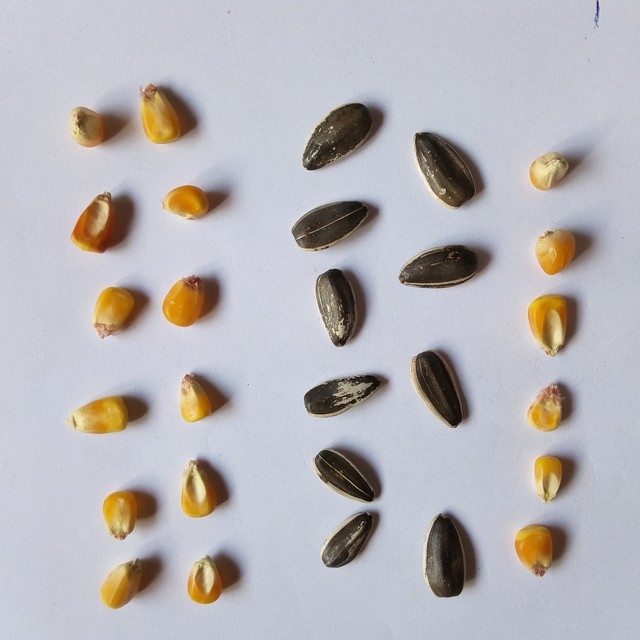girasol: (406, 128, 487, 212), (298, 94, 377, 179), (286, 197, 383, 257), (409, 343, 472, 432), (417, 506, 475, 601), (303, 266, 366, 352), (398, 238, 486, 297), (308, 443, 392, 504), (296, 371, 390, 422), (320, 511, 383, 568)
maiz: (133, 78, 193, 146), (510, 521, 574, 582), (64, 191, 122, 254), (525, 290, 579, 357), (98, 553, 155, 611), (88, 281, 139, 344), (162, 271, 214, 332), (65, 391, 133, 435), (178, 454, 220, 523), (526, 378, 573, 436), (530, 228, 580, 278), (171, 369, 214, 425), (186, 548, 226, 608), (99, 488, 145, 538), (64, 101, 109, 151), (162, 180, 215, 222), (528, 452, 570, 505), (528, 145, 574, 192)
